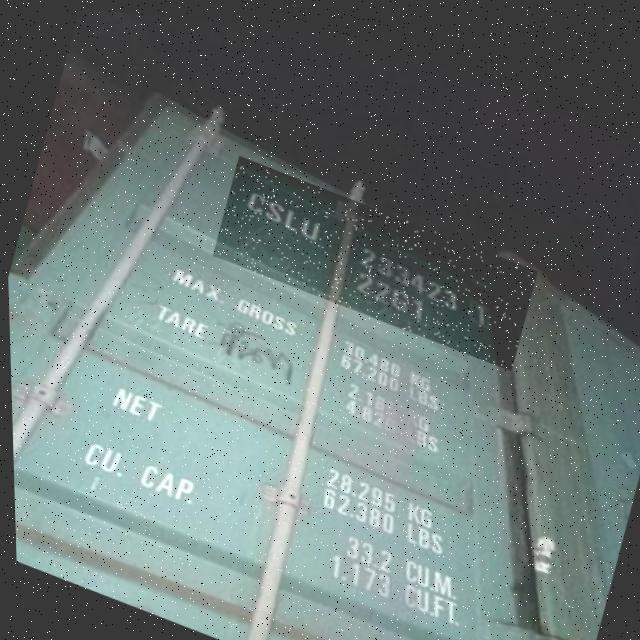ISO: (352, 273, 430, 332)
container_number: (240, 188, 490, 328)
